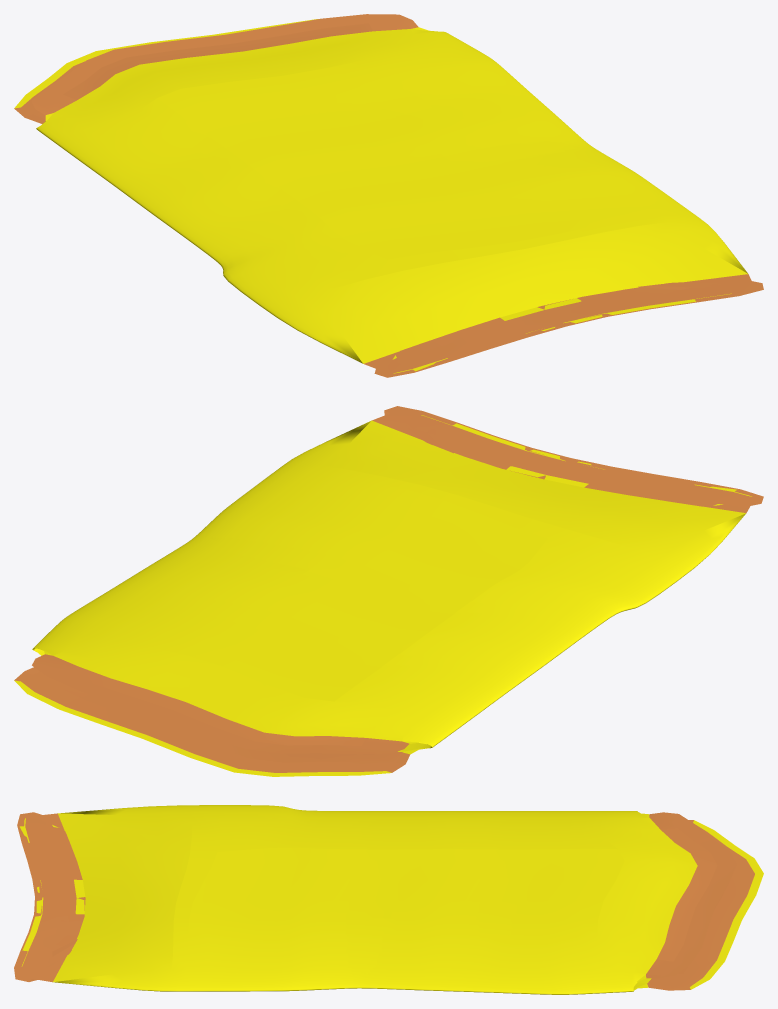
File:  Saco de Salgadinho Prensado HIGHPOLY.fbx
The picture shows the model from 3 angles, top to bottom: view 1: azimuth 30°, elevation 25°; view 2: azimuth 150°, elevation 25°; view 3: azimuth 270°, elevation 25°; orthographic projection. The views are drawn at different scales.
Parts seen in each view (by area): view 1: Cube.019; view 2: Cube.019; view 3: Cube.019.
Part boxes in pixels (left/top/right/bottom): Cube.019: left=14, top=14, right=763, bottom=377; Cube.019: left=14, top=406, right=763, bottom=776; Cube.019: left=14, top=805, right=763, bottom=994.
Bounding box in the file's own units: 1.65 × 0.0925 × 2.78.
